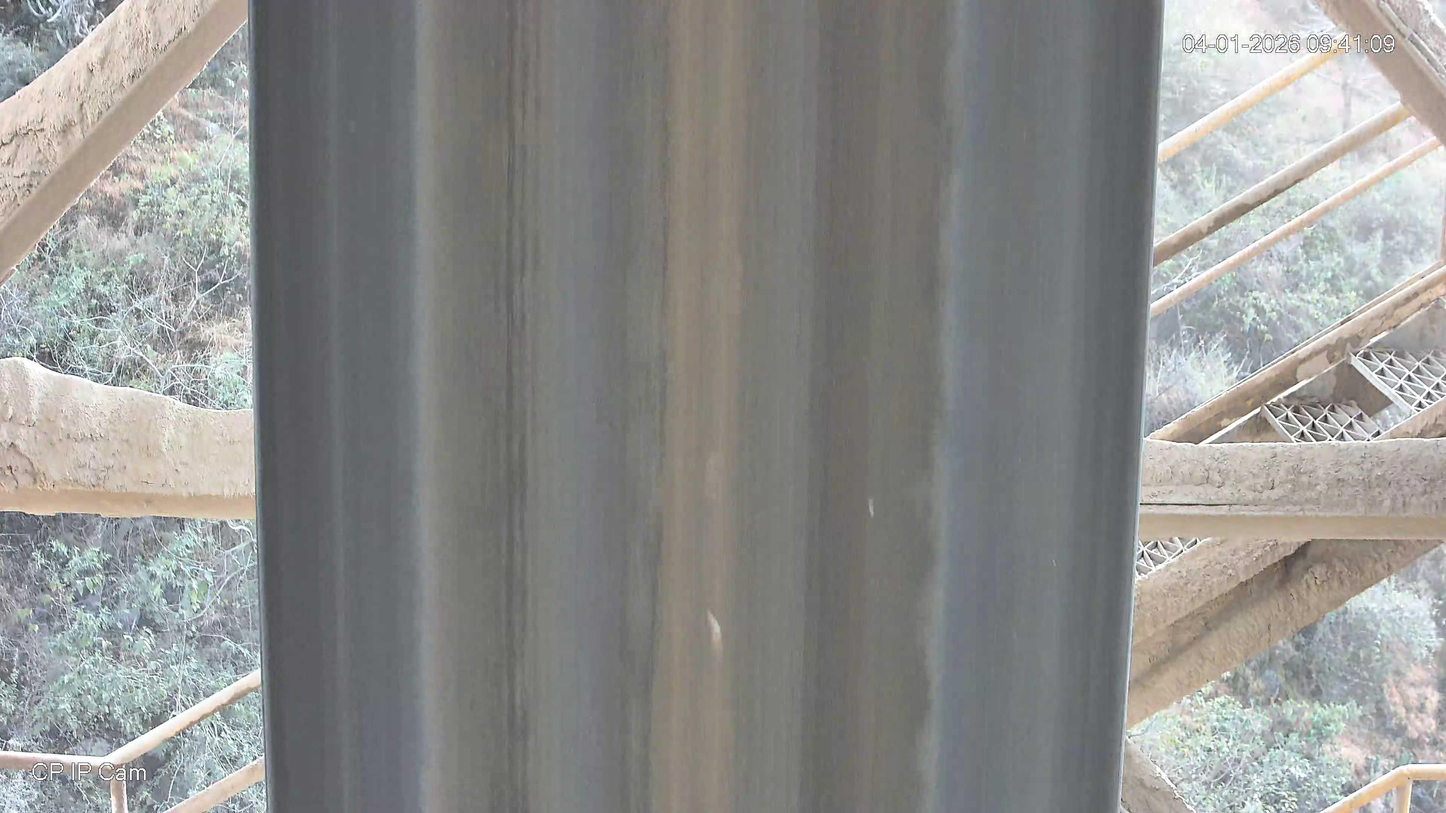belt_roi: (249, 0, 1166, 813)
